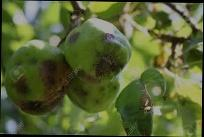rotten apple: (3, 40, 72, 120), (61, 17, 136, 85)
